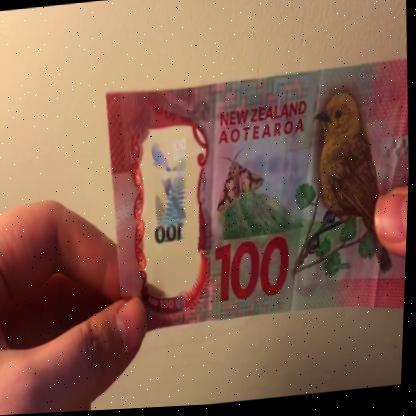100B: (138, 125, 204, 281)
